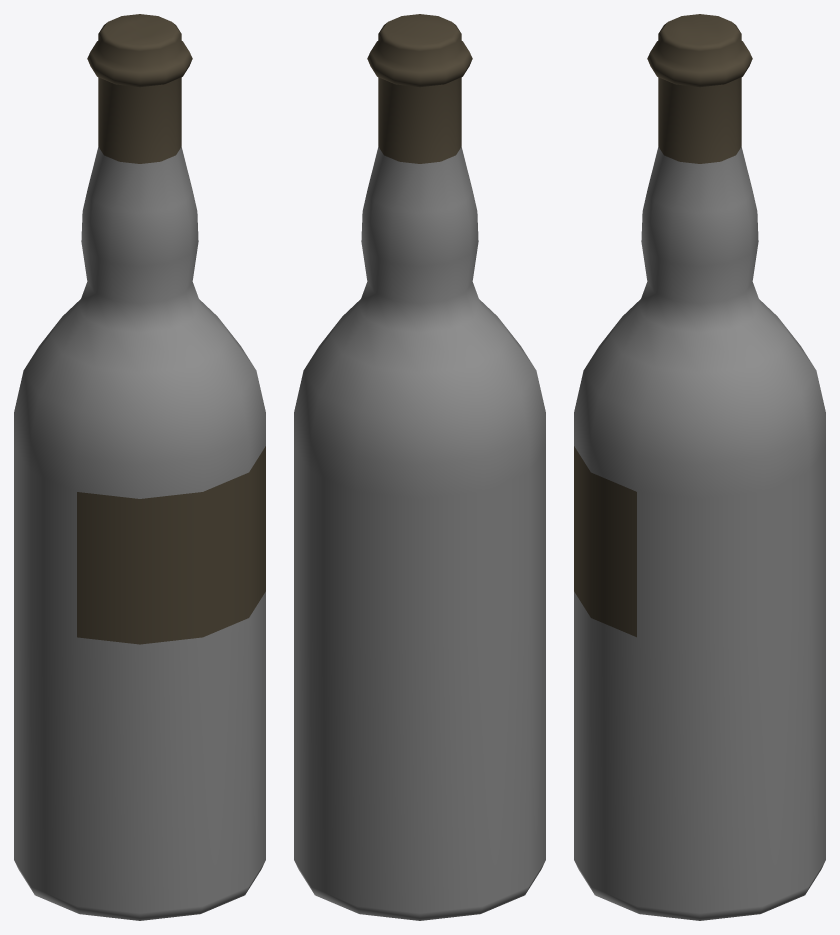
Rendered from Bottle1.fbx.
3 renders of one model, left to right at view 1: azimuth 30°, elevation 25°; view 2: azimuth 150°, elevation 25°; view 3: azimuth 270°, elevation 25°, orthographic.
Parts seen in each view (by area): view 1: Bottle1; view 2: Bottle1; view 3: Bottle1.
Part boxes in pixels (x1,y1,x2,y2): Bottle1: (14,14,265,920); Bottle1: (294,14,545,920); Bottle1: (574,14,825,920).
Bounding box in the file's own units: 0.0117 × 0.0432 × 0.0117.
